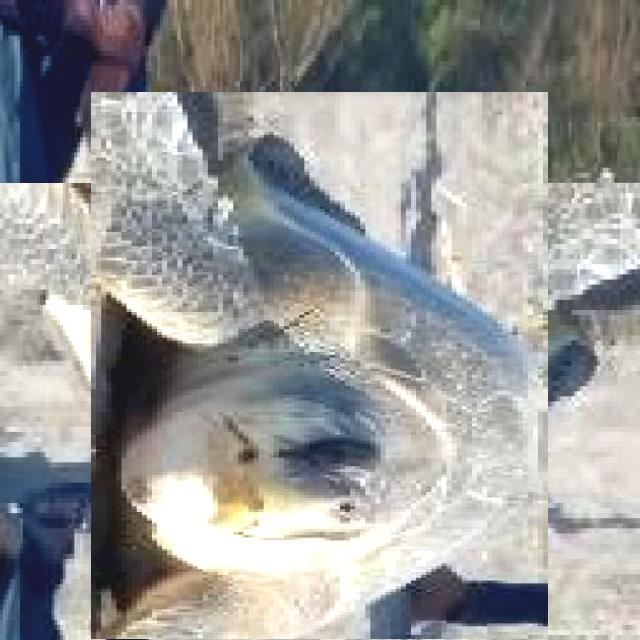Sea turtle: (45, 137, 594, 640)
